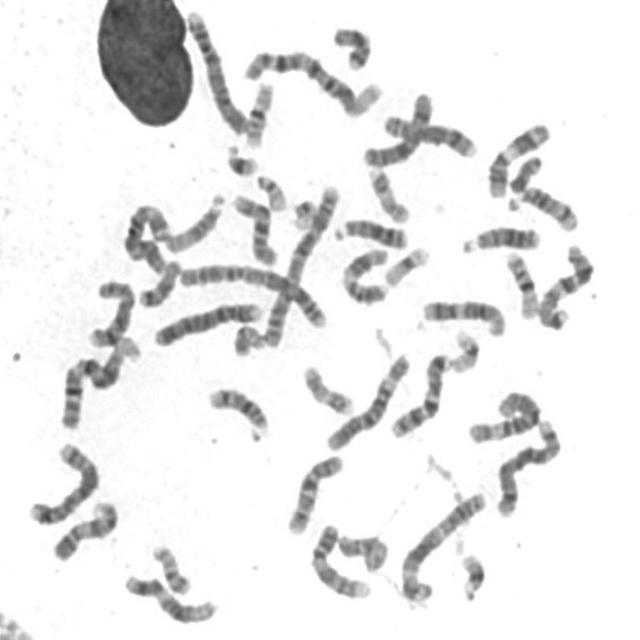A1: (241, 42, 387, 120), (54, 329, 144, 431)
A2: (258, 177, 346, 348), (174, 256, 332, 331)
A3: (395, 483, 491, 605), (118, 197, 174, 276)
B4: (182, 1, 254, 137), (150, 294, 266, 349)
B5: (491, 412, 566, 519), (24, 434, 104, 526)
C10: (283, 447, 348, 537), (228, 185, 283, 268)
C11: (482, 114, 554, 198), (337, 240, 394, 306)
C12: (120, 567, 222, 625), (417, 291, 511, 339)
C6: (322, 346, 414, 454), (464, 383, 546, 446)
C7: (386, 346, 456, 439), (533, 237, 599, 331)
C8: (380, 106, 482, 160), (85, 273, 140, 349)
C9: (306, 516, 375, 600), (48, 494, 123, 564)
D13: (458, 217, 544, 255), (329, 211, 412, 250)
D14: (204, 380, 274, 439), (508, 178, 582, 232)
D15: (162, 185, 229, 255), (334, 526, 391, 572)
E16: (502, 244, 542, 320), (240, 74, 278, 148)
E17: (298, 357, 359, 417), (363, 160, 414, 224)
E18: (134, 251, 185, 310), (328, 18, 376, 72)
F19: (380, 238, 435, 289), (445, 322, 484, 375)
F20: (148, 537, 196, 597), (228, 317, 268, 358)
G21: (456, 545, 490, 604), (222, 137, 262, 179)
G22: (252, 168, 292, 214), (290, 198, 324, 231)
X: (359, 84, 437, 168)
Y: (504, 148, 546, 194)
